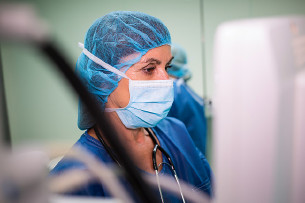face_mask: (107, 40, 175, 127)
